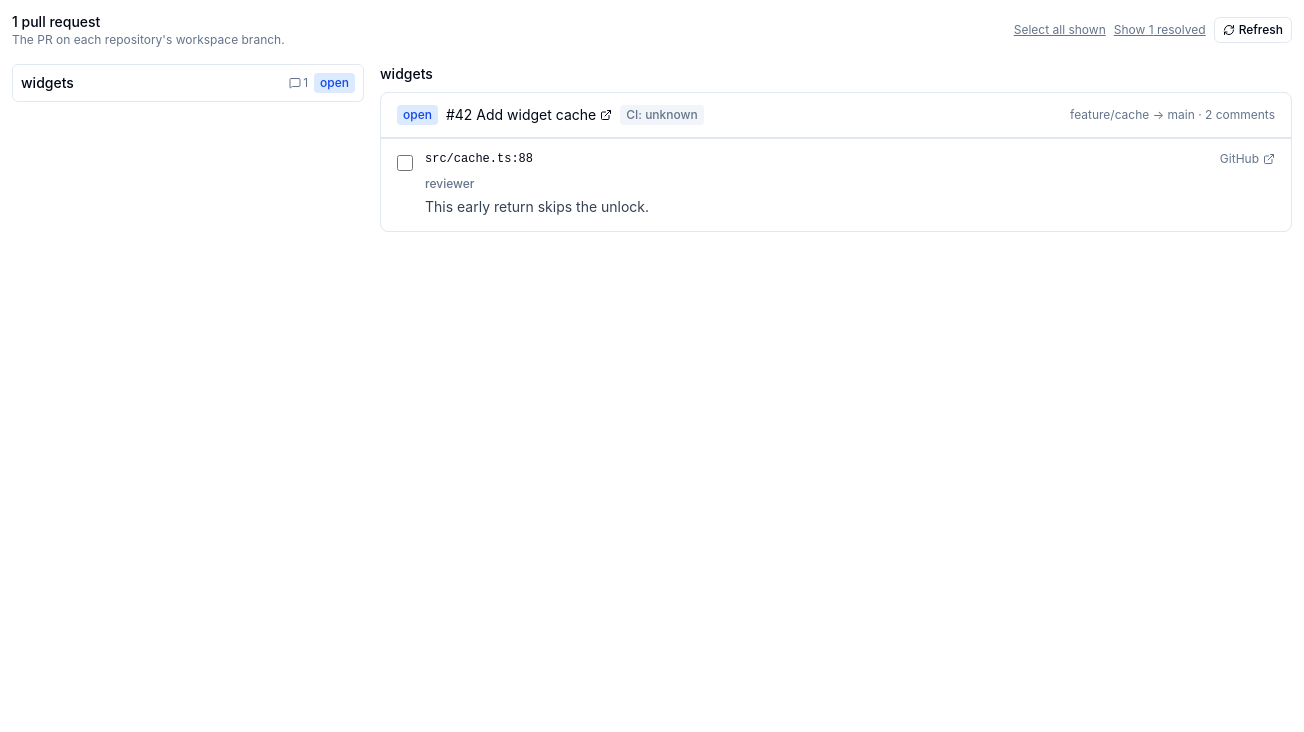
Scenario: PullRequestsView › a note on the selection › opens a note box under a comment once it is ticked, and not before
Step 1. Click the checkbox named "src/cache.ts:88" → (405, 163), box [397,155,413,171]
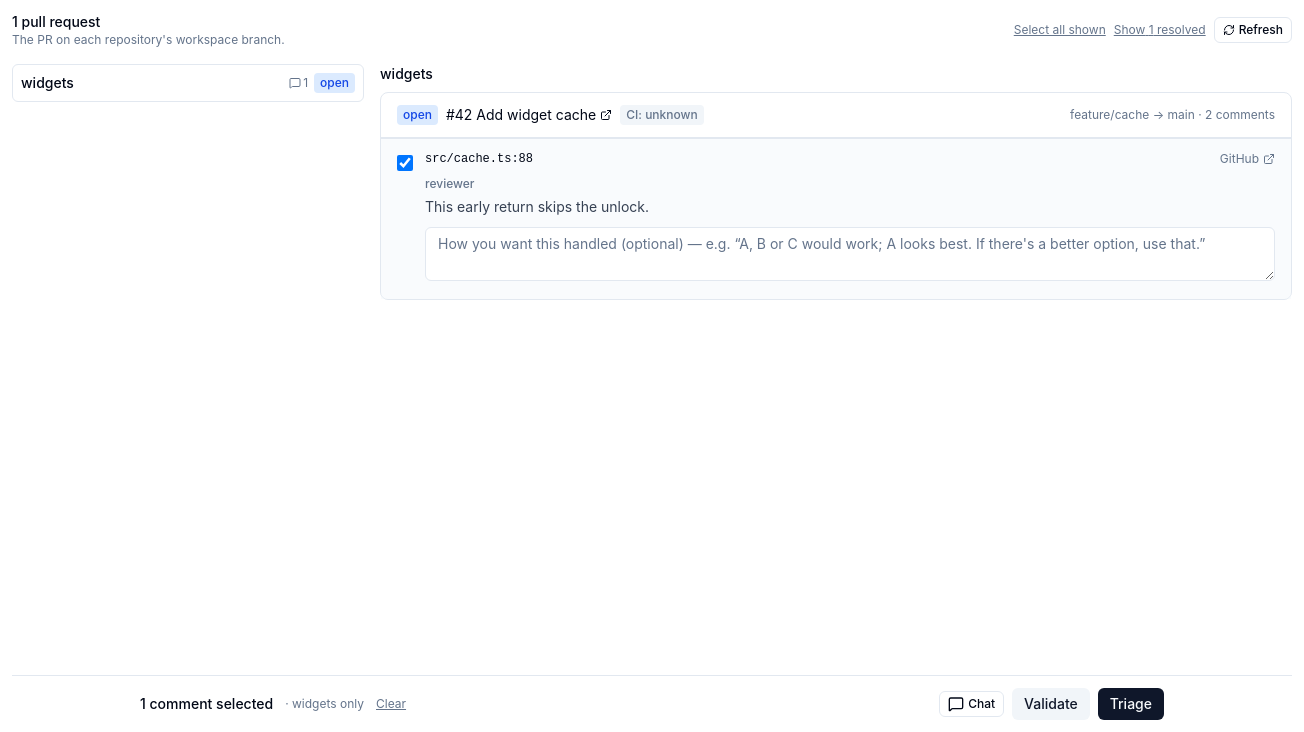
expect the text box named "Note on review thread on src/cache.ts:88" is shown: met, box [425,227,1275,281]
